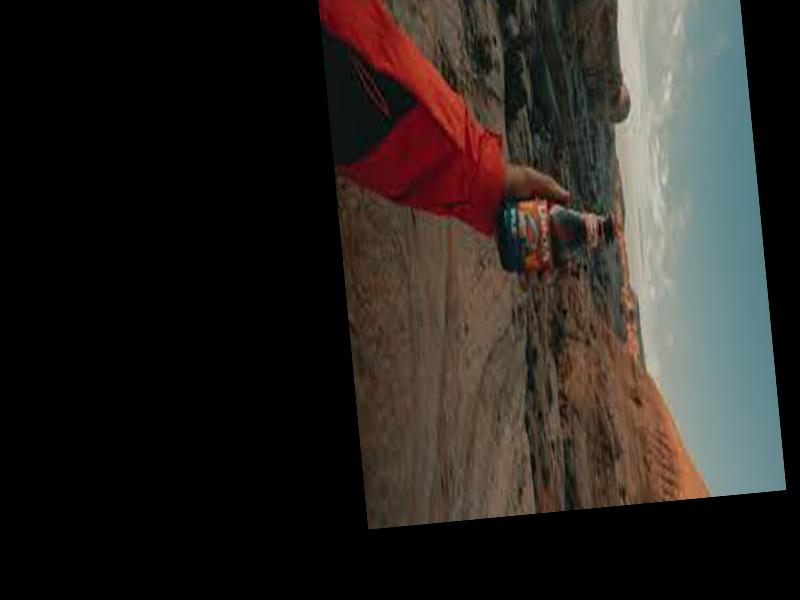Beer: (494, 184, 617, 276)
